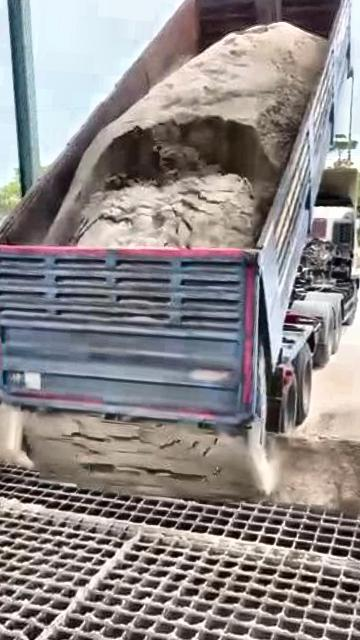sand: (46, 24, 325, 246), (0, 383, 263, 498), (0, 486, 286, 557), (0, 535, 138, 640), (268, 436, 360, 516)
